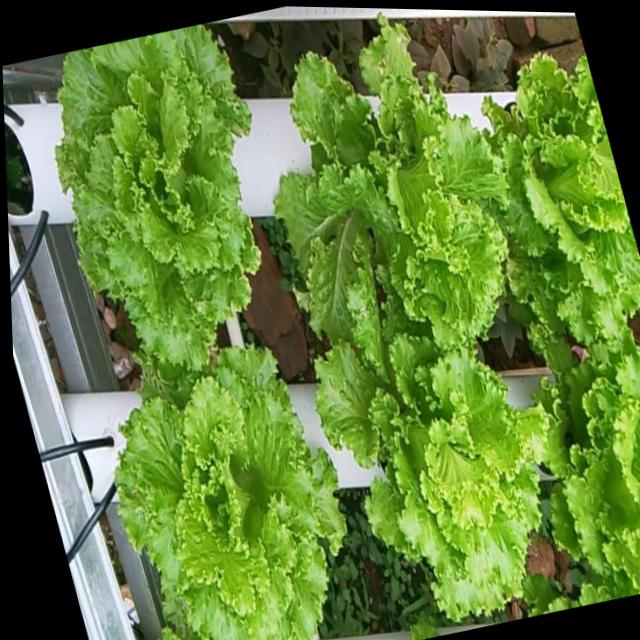Mature: (309, 296, 543, 621), (273, 23, 505, 350), (52, 24, 257, 369), (112, 346, 343, 640), (481, 53, 640, 342), (548, 330, 640, 594)
